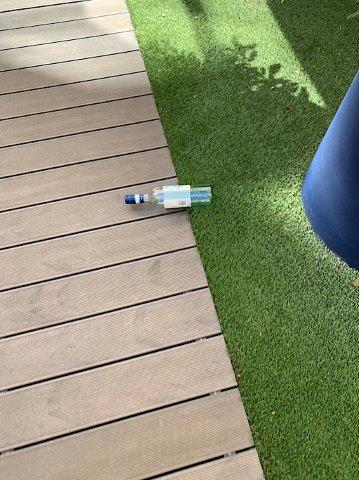botolkaca: (126, 185, 212, 209)
